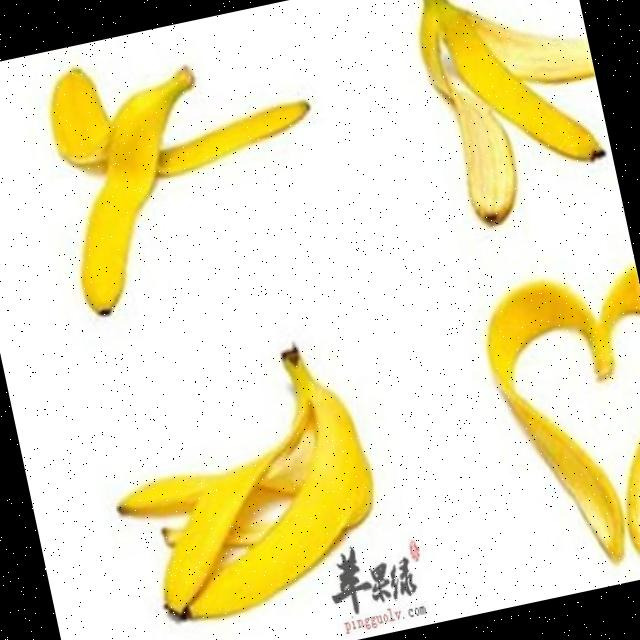banana-peel: (33, 18, 343, 320), (88, 330, 395, 634), (471, 256, 640, 581), (401, 0, 620, 233)
